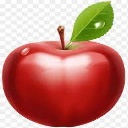apple: (2, 32, 128, 128)
